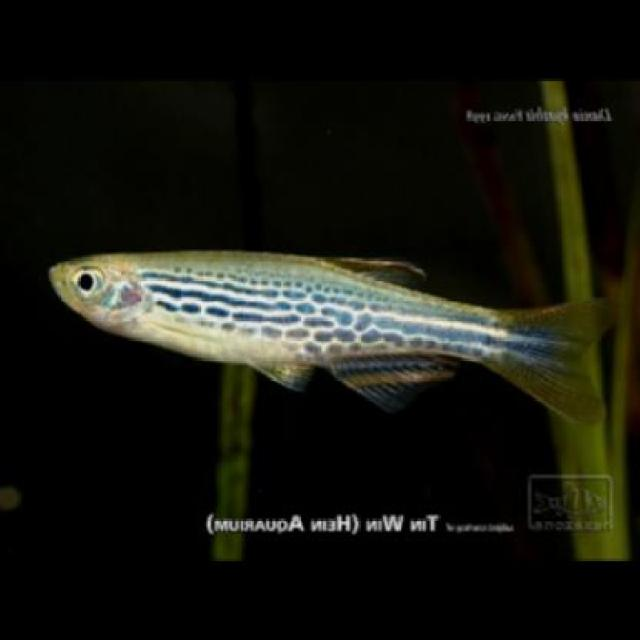ZebraFish: (46, 248, 616, 420)
